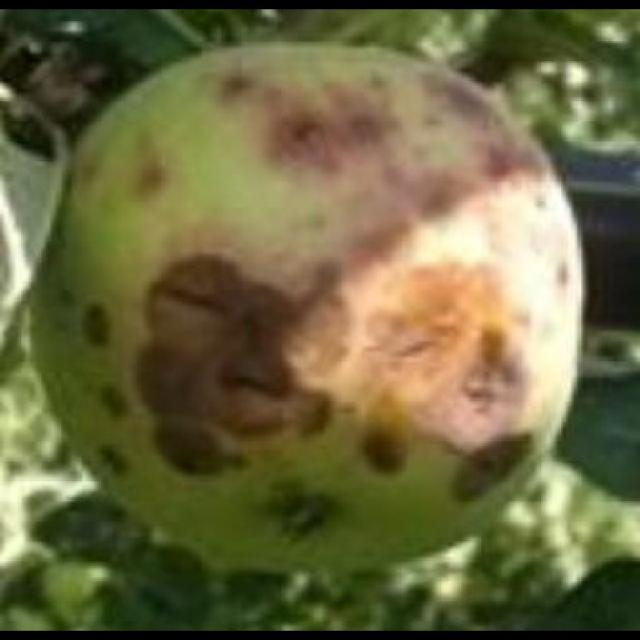Rotten Apple: (25, 40, 586, 575)
